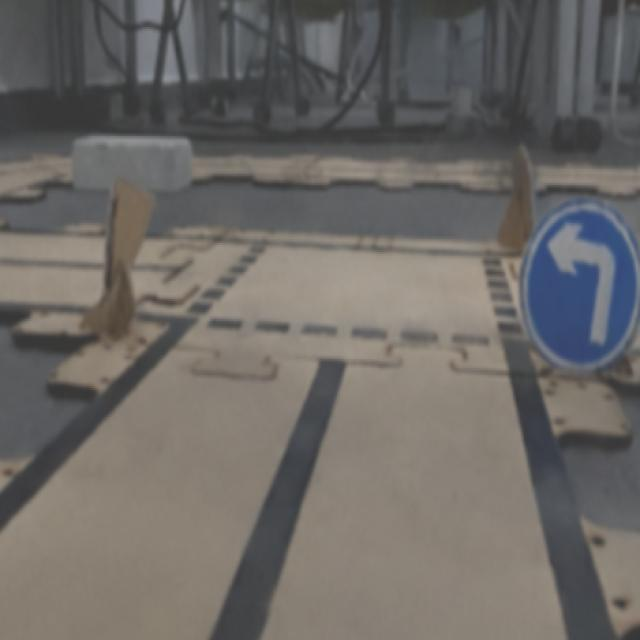LEFT: (520, 198, 639, 372)
